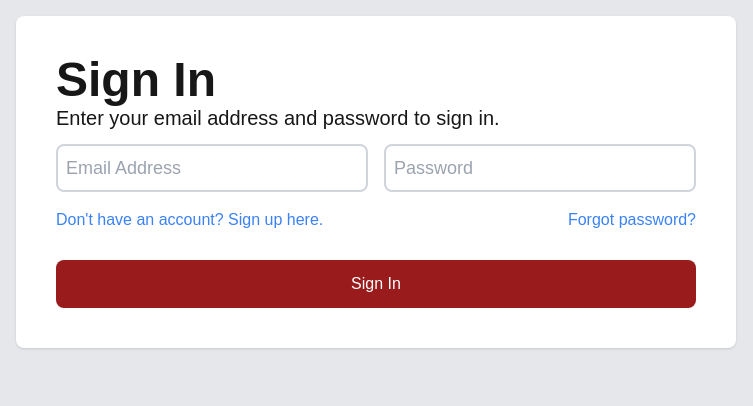
Test case: Blank email or password renders "Please fill in all fields.
What coordinates should you click on to do the following:
click the button with test id "signin-button"
I would click on:
 (376, 284)
Its box is [56, 260, 696, 308].
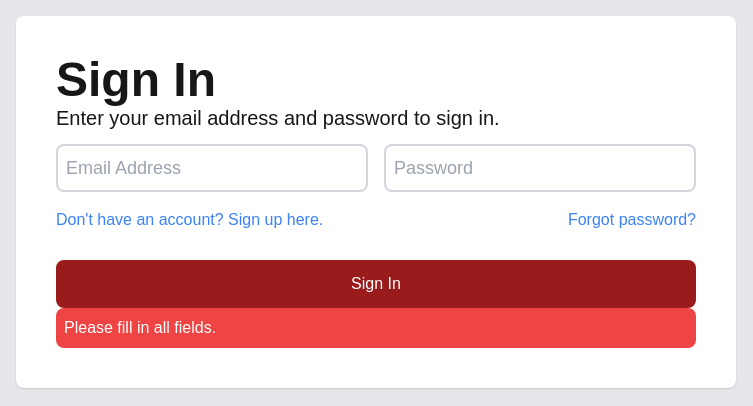
Expected: the text "Please fill in all fields." is shown, [56, 308, 696, 348]
